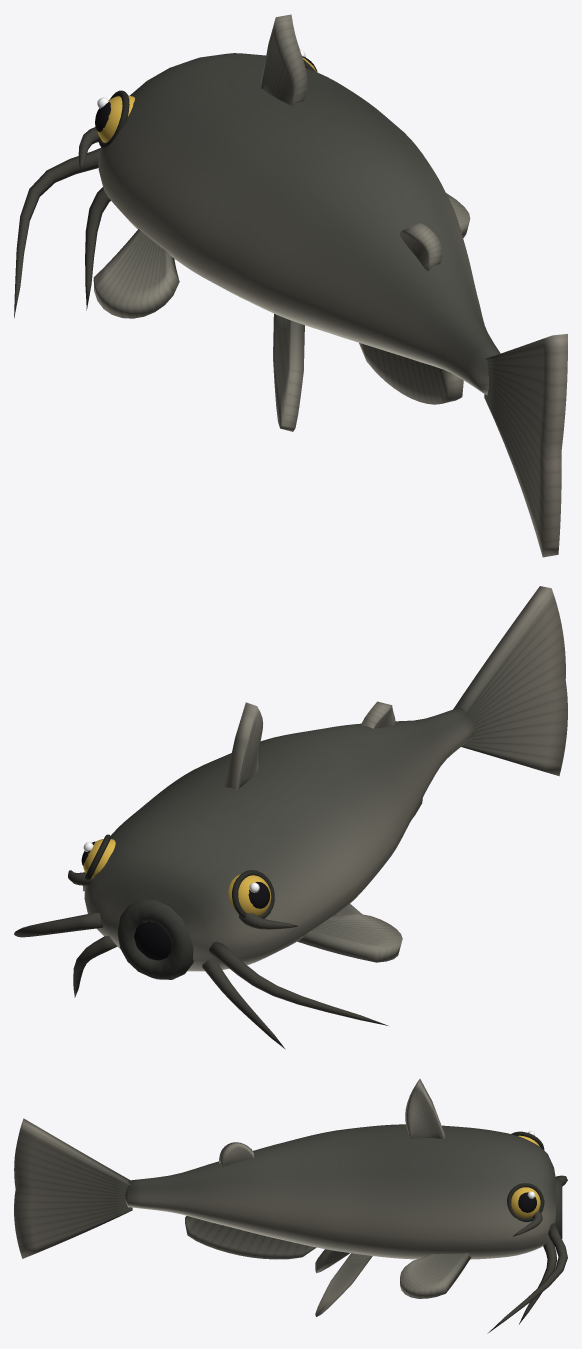
Rendered from Catfish.fbx.
3 views of the same model, one above another, from view 1: azimuth 30°, elevation 25°; view 2: azimuth 150°, elevation 25°; view 3: azimuth 270°, elevation 25° (orthographic). The views are drawn at different scales.
Parts seen in each view (by area): view 1: Catfish; view 2: Catfish; view 3: Catfish.
Part boxes in pixels (x1,y1,x2,y2): Catfish: (14, 14, 567, 557); Catfish: (14, 586, 567, 1049); Catfish: (14, 1079, 567, 1333).
Bounding box in the file's own units: 180 × 131 × 306.
Materials: 1 (1 with a texture image).
